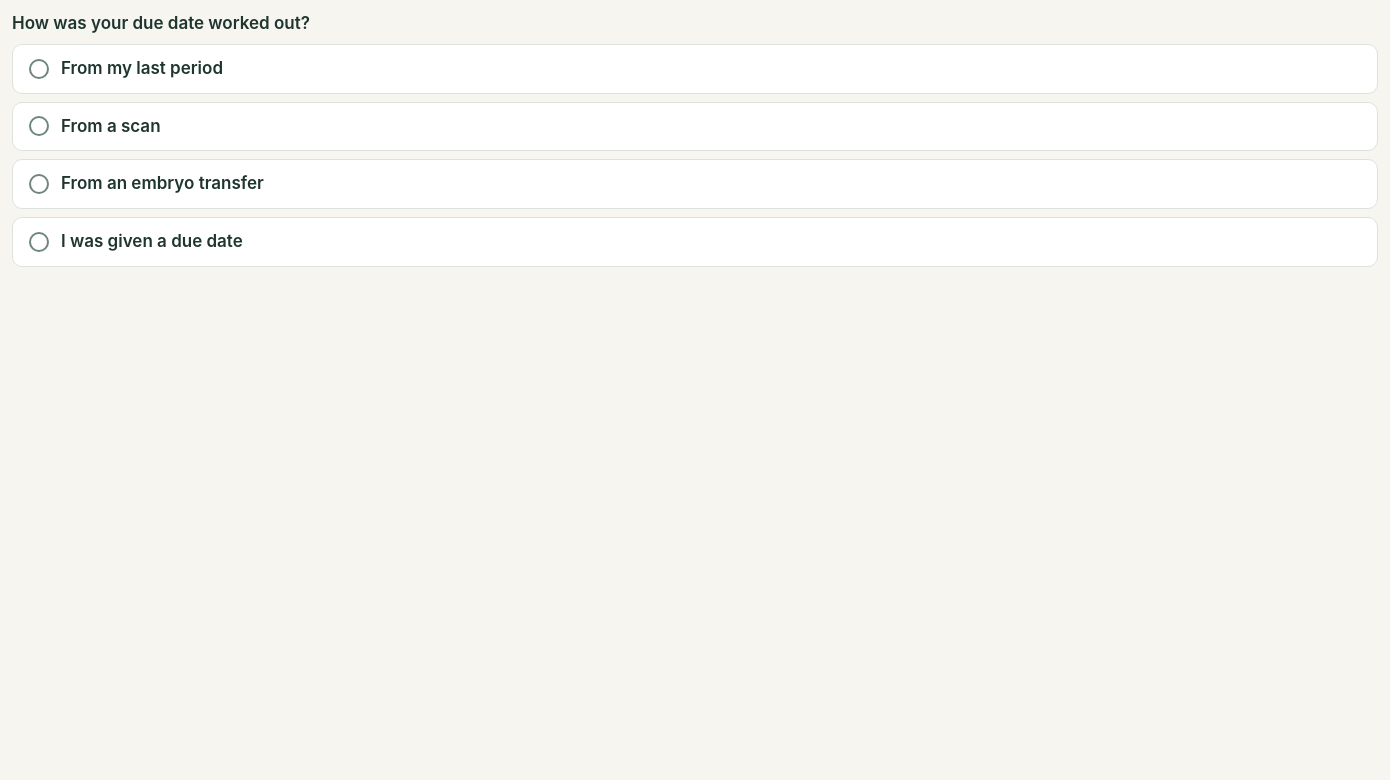
Test: pregnancy dating › shows only the chosen method's fields, each date with an example line
What coordinates should you click on to do the following:
click the radio button labelled "From a scan"
I would click on:
 (695, 126)
Its box is [12,102,1378,151].
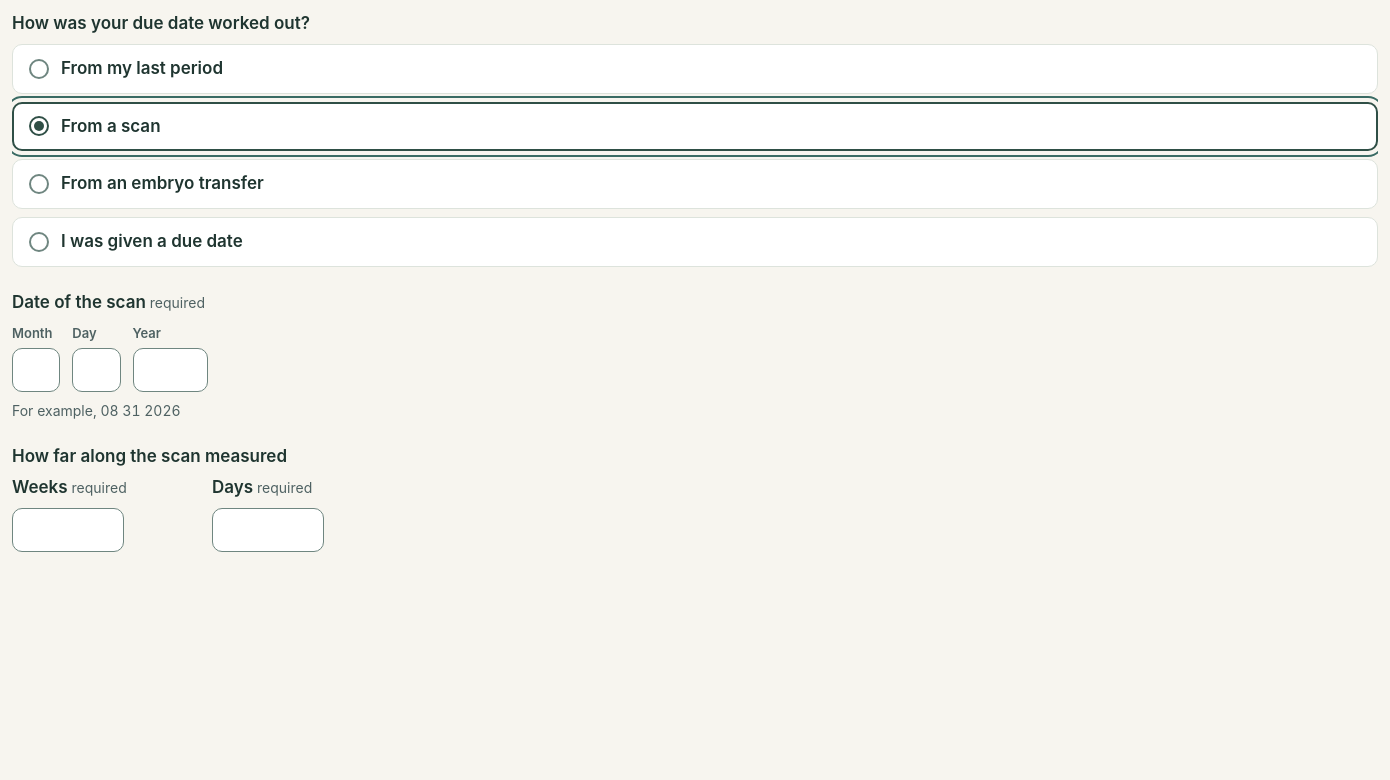
Result: the element "Date of the scan" is shown at [12,292,208,419]
Result: the text "For example, 08 31 2026" is shown at [12,402,180,419]
Result: the element "How far along the scan measured" is shown at [12,446,324,552]
What coordinates should you click on to do the following:
click the radio button labelled "I was given a due date"
I would click on:
 (695, 242)
Its box is [12,217,1378,267].
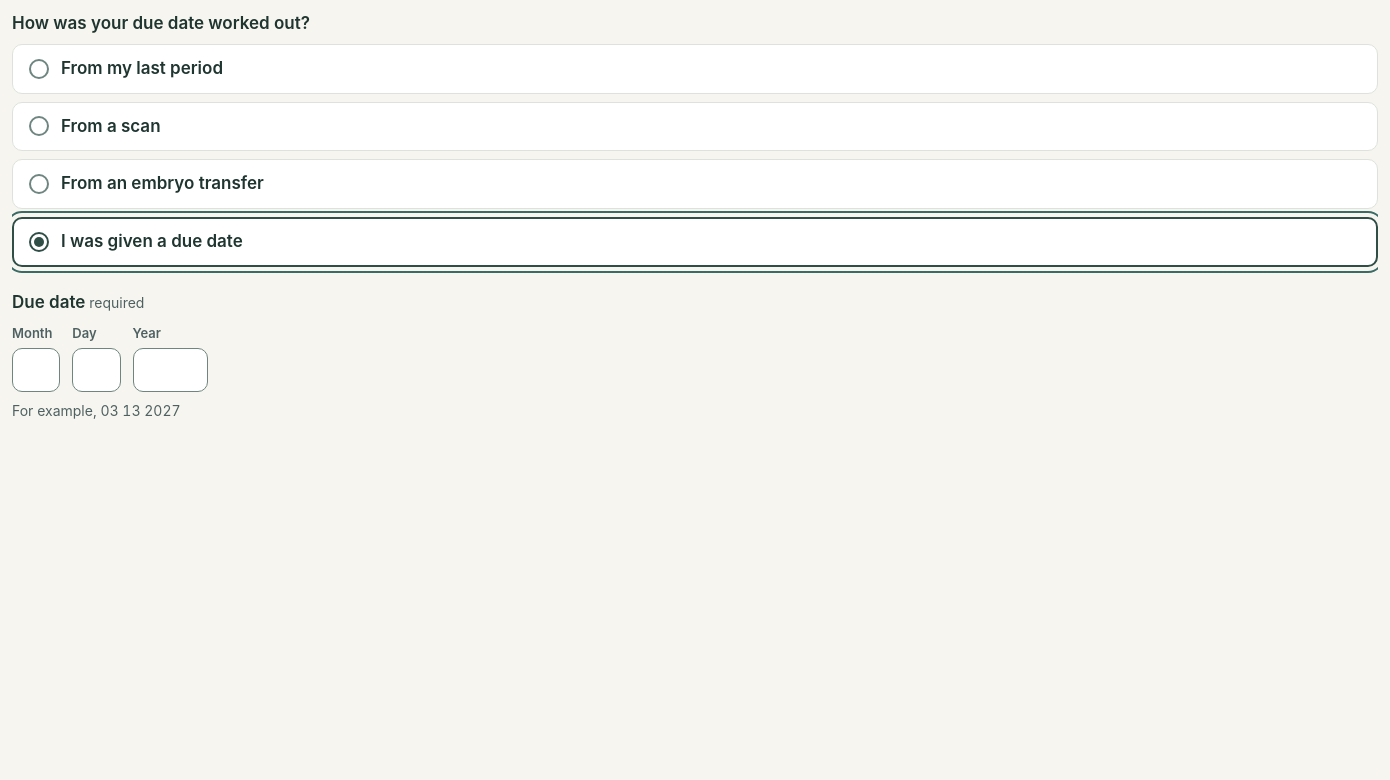
Result: the element "Date of the scan" is gone
Result: the element "Due date required Month Day Year For example, 03 13 2027" is shown at [12,292,208,419]
Result: the text "For example, 03 13 2027" is shown at [12,402,180,419]
